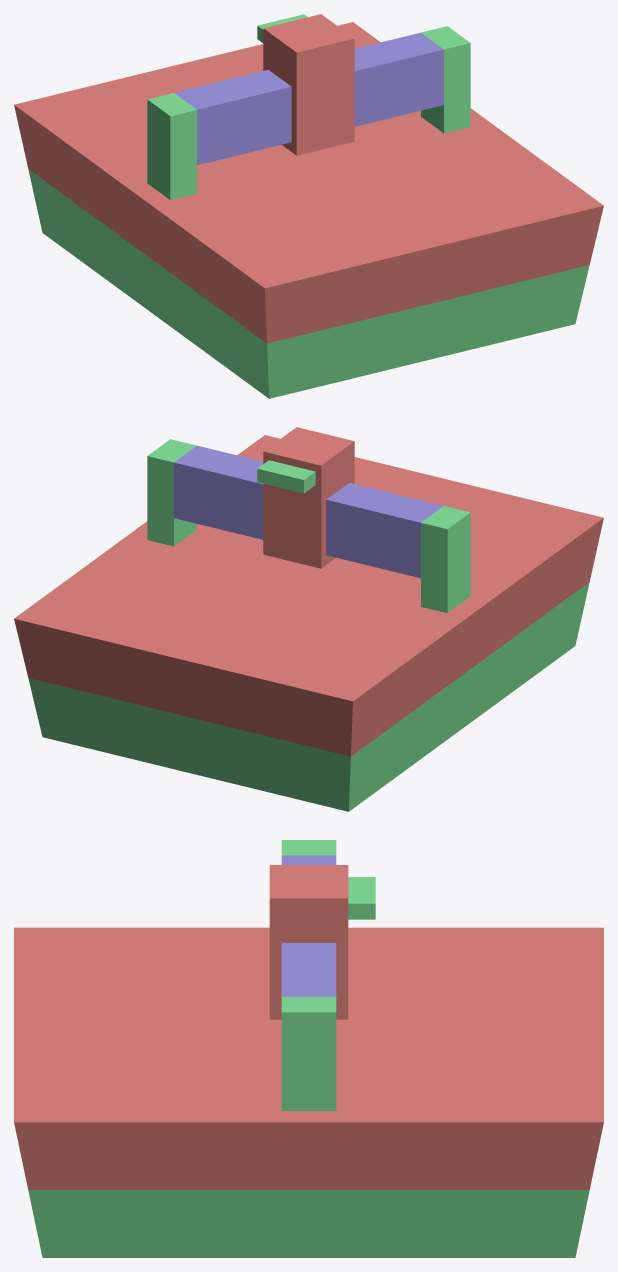
File: models.fbx_machine_l.fbx
3 views of the same model, one above another, from view 1: azimuth 30°, elevation 25°; view 2: azimuth 150°, elevation 25°; view 3: azimuth 270°, elevation 25° (orthographic). The views are drawn at different scales.
Visible parts, largest first — view 1: Cube, Cube.001, Cube.002; view 2: Cube, Cube.001, Cube.002; view 3: Cube, Cube.001, Cube.002.
Part boxes in pixels (bbox=[...]): Cube: bbox=[14, 22, 603, 398]; Cube.001: bbox=[147, 26, 470, 200]; Cube.002: bbox=[257, 14, 354, 155]; Cube: bbox=[14, 435, 603, 811]; Cube.001: bbox=[147, 439, 470, 613]; Cube.002: bbox=[257, 427, 354, 568]; Cube: bbox=[14, 927, 603, 1257]; Cube.001: bbox=[281, 840, 336, 1110]; Cube.002: bbox=[269, 865, 375, 1019].
Bounding box in the file's own units: 345 × 254 × 443.
